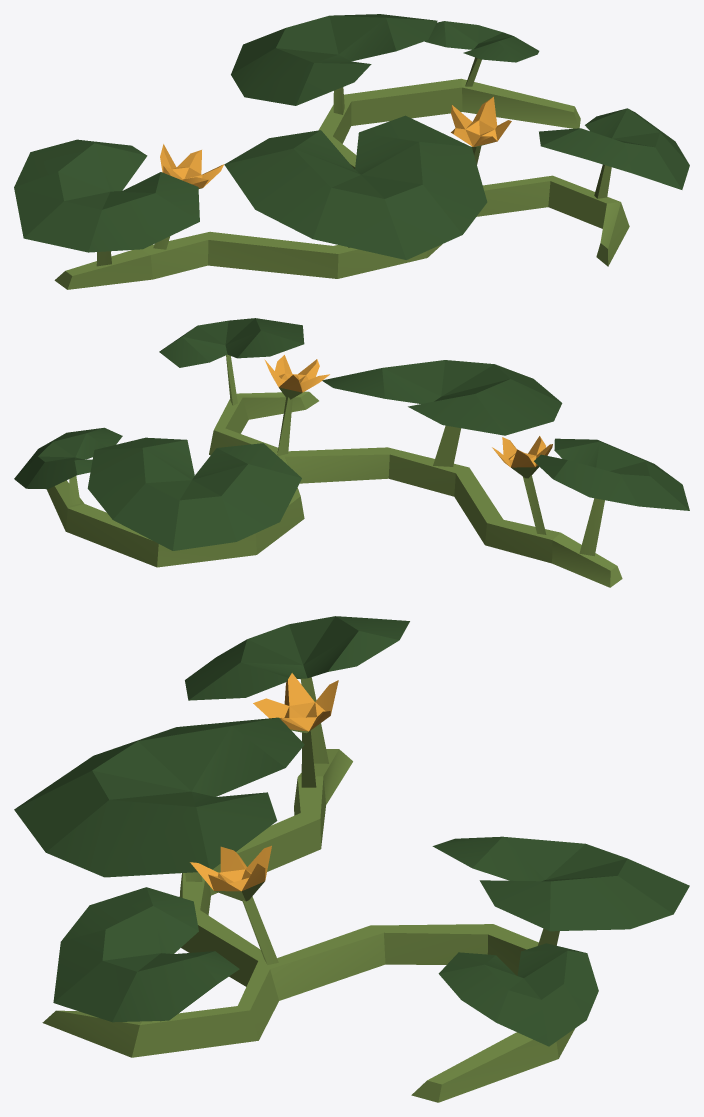
The model's file is pumpkin001-1.gltf.
3 renders of one model, top to bottom at view 1: azimuth 30°, elevation 25°; view 2: azimuth 150°, elevation 25°; view 3: azimuth 270°, elevation 25°, orthographic. The views are drawn at different scales.
Visible parts, largest first — view 1: node_SM_Prop_Plant_Ground_01_L2_-51548; view 2: node_SM_Prop_Plant_Ground_01_L2_-51548; view 3: node_SM_Prop_Plant_Ground_01_L2_-51548.
Boxes of the visible parts, x1,y1,x2,y2 form: node_SM_Prop_Plant_Ground_01_L2_-51548: [14, 14, 689, 289]; node_SM_Prop_Plant_Ground_01_L2_-51548: [14, 318, 689, 587]; node_SM_Prop_Plant_Ground_01_L2_-51548: [14, 616, 689, 1102].
Size of what is drawn, in the model's own units: 1.05 by 0.2028 by 0.7947.
1 material, 1 textured.
